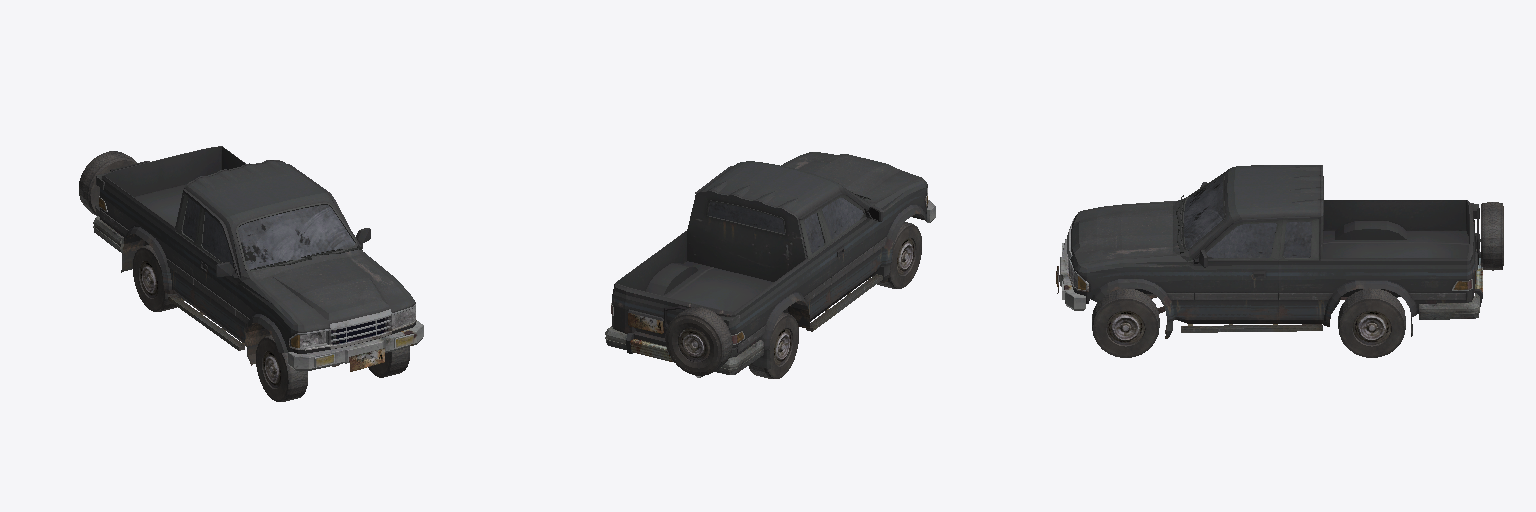
The picture shows the model from 3 angles: view 1: azimuth 30°, elevation 25°; view 2: azimuth 150°, elevation 25°; view 3: azimuth 270°, elevation 25°; orthographic projection.
Parts seen in each view (by area): view 1: SM_TC5car01; view 2: SM_TC5car01; view 3: SM_TC5car01.
Boxes of the visible parts, box(x1,y1,x2,y2) form: SM_TC5car01: box(79, 146, 423, 401); SM_TC5car01: box(605, 152, 935, 378); SM_TC5car01: box(1056, 165, 1503, 357).
Size of the model in its own units: 259 by 235 by 652.
Materials: 1 (1 with a texture image).